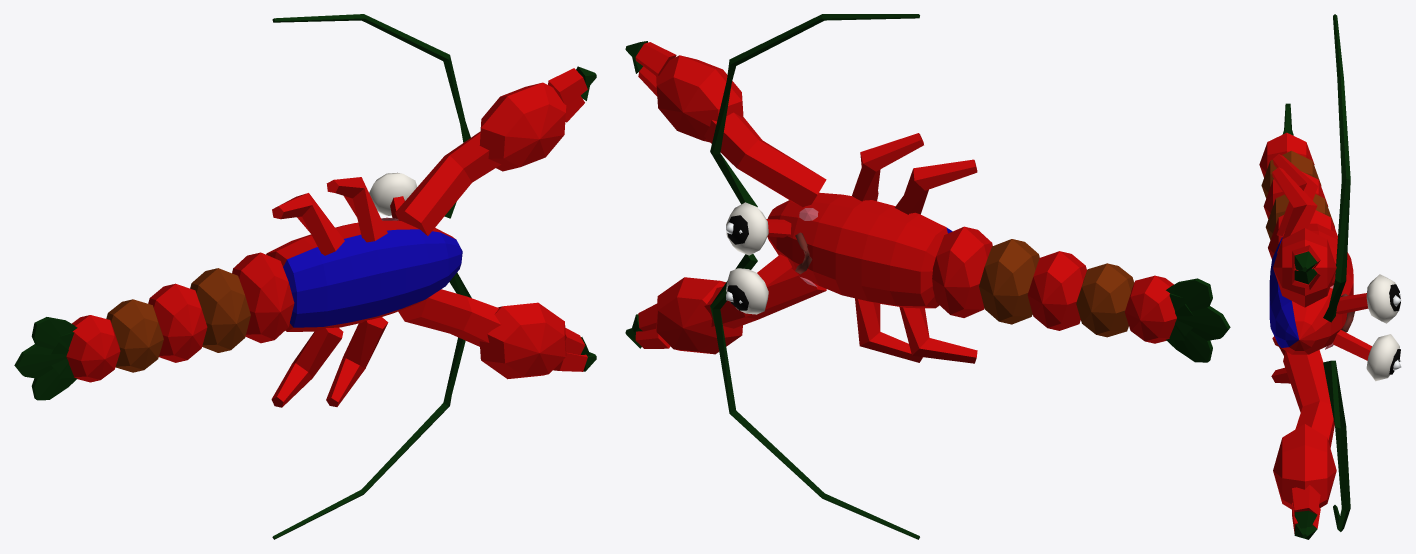
File: fish-lobster.glb
The picture shows the model from 3 angles, left to right: view 1: azimuth 30°, elevation 25°; view 2: azimuth 150°, elevation 25°; view 3: azimuth 270°, elevation 25°; orthographic projection. The views are drawn at different scales.
Parts seen in each view (by area): view 1: body, tail; view 2: body, tail; view 3: body, tail.
Part boxes in pixels (x1,y1,x2,y2): body: (266, 14, 596, 539); tail: (14, 252, 294, 400); body: (625, 14, 977, 539); tail: (932, 226, 1230, 362); body: (1269, 14, 1401, 539); tail: (1259, 103, 1336, 258).
Bounding box in the file's own units: 1.15 × 0.9756 × 0.2542.
